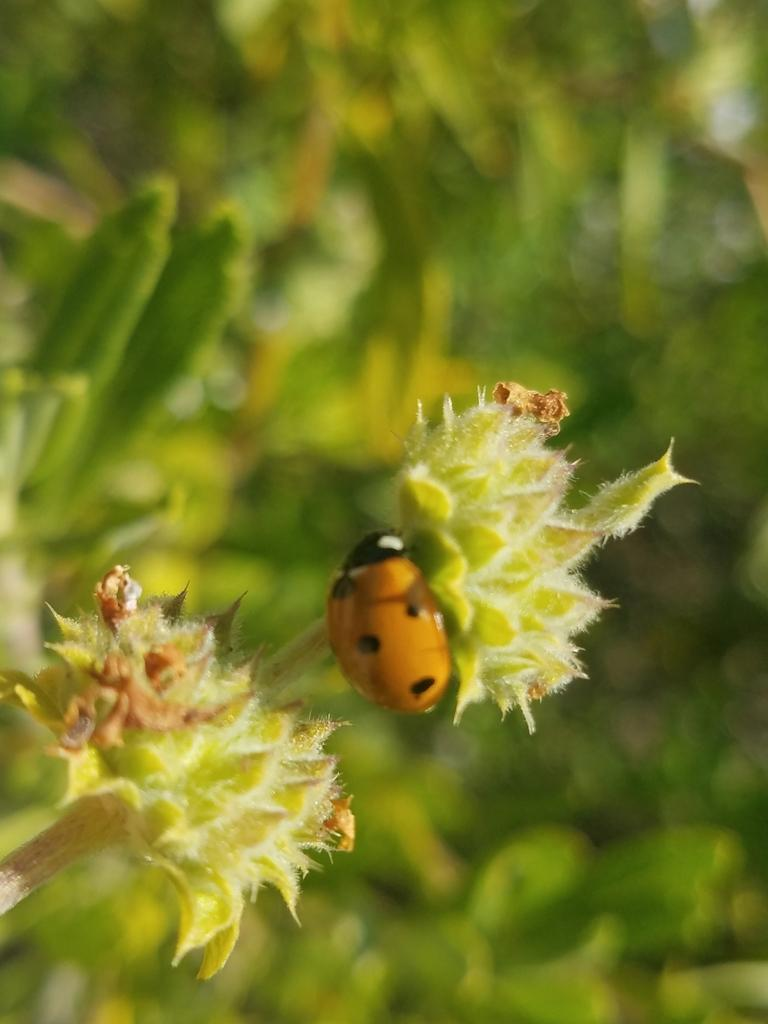ladybug: (324, 531, 459, 719)
